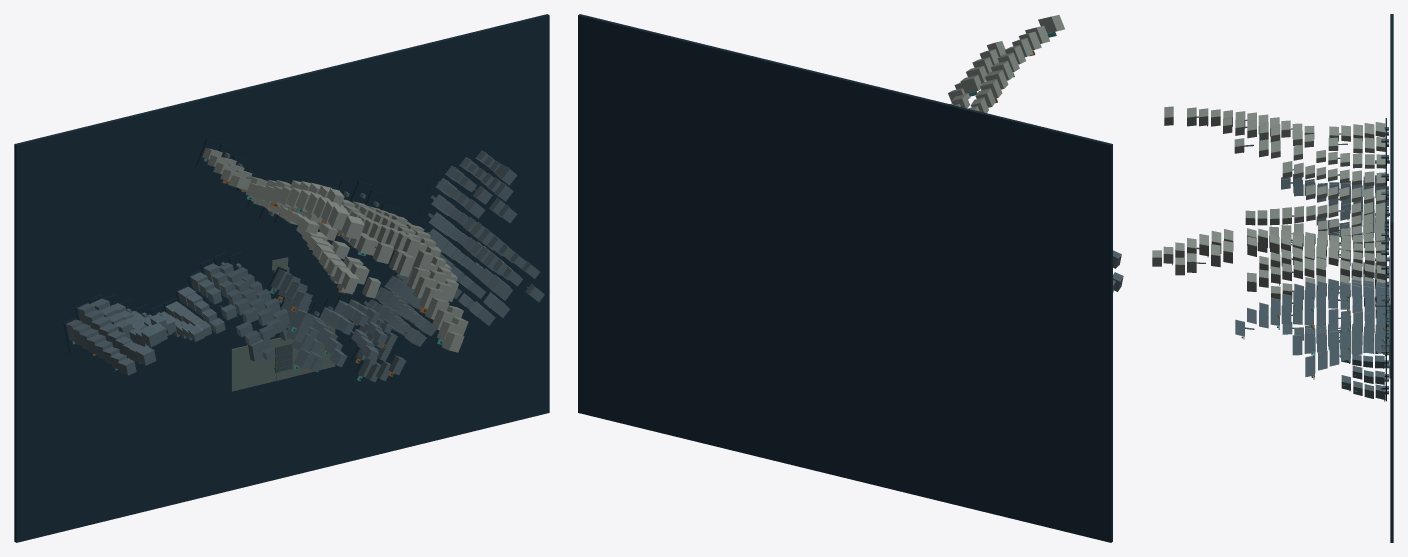
Rendered from a76_true_native.obj.
The picture shows the model from 3 angles, left to right: view 1: azimuth 30°, elevation 25°; view 2: azimuth 150°, elevation 25°; view 3: azimuth 270°, elevation 25°; orthographic projection. The views are drawn at different scales.
Parts seen in each view (by area): view 1: grp1, grp425, grp8705, grp22785; view 2: grp1, grp8705; view 3: grp8705, grp425, grp1.
Part boxes in pixels (x1,y1,x2,y2): grp1: (14, 14, 549, 542); grp425: (66, 148, 544, 382); grp8705: (66, 148, 534, 367); grp22785: (231, 257, 335, 391); grp1: (578, 14, 1112, 542); grp8705: (948, 15, 1123, 285); grp8705: (1152, 106, 1389, 391); grp425: (1196, 116, 1389, 399); grp1: (1385, 14, 1393, 542).
Size of the model in its own units: 1600 by 1140 by 779.
